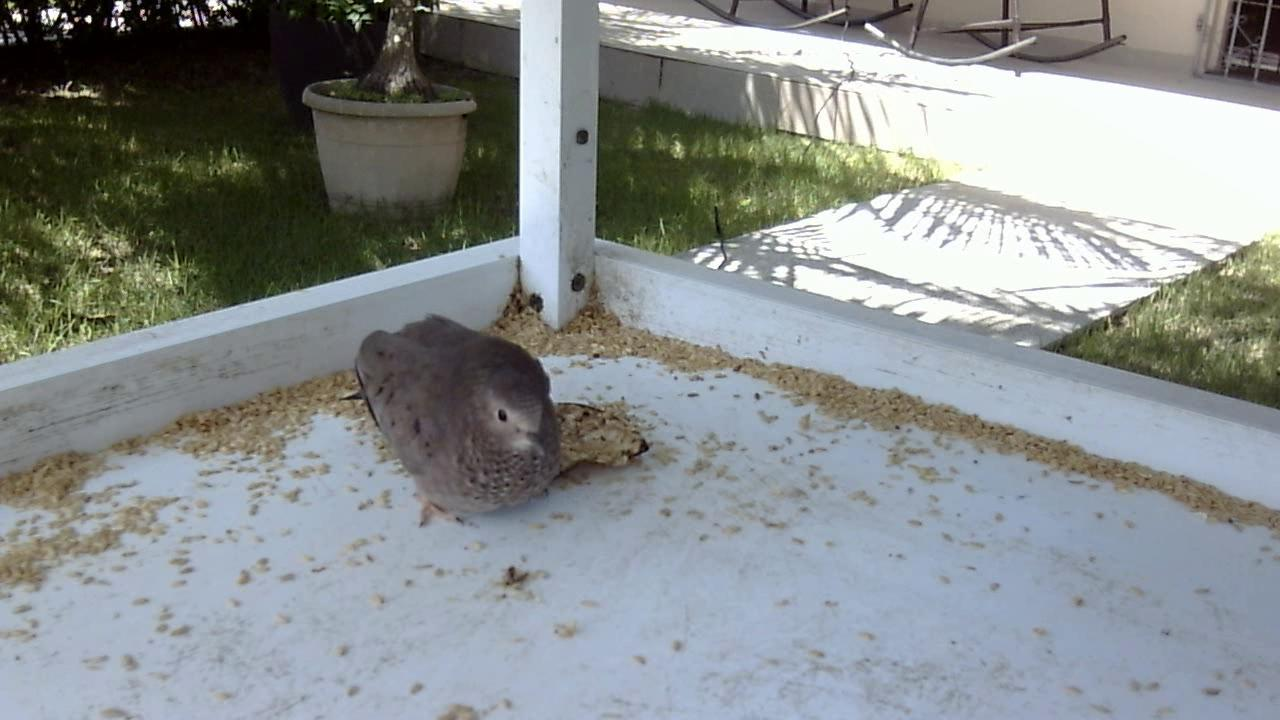rolinha: (346, 308, 587, 530)
